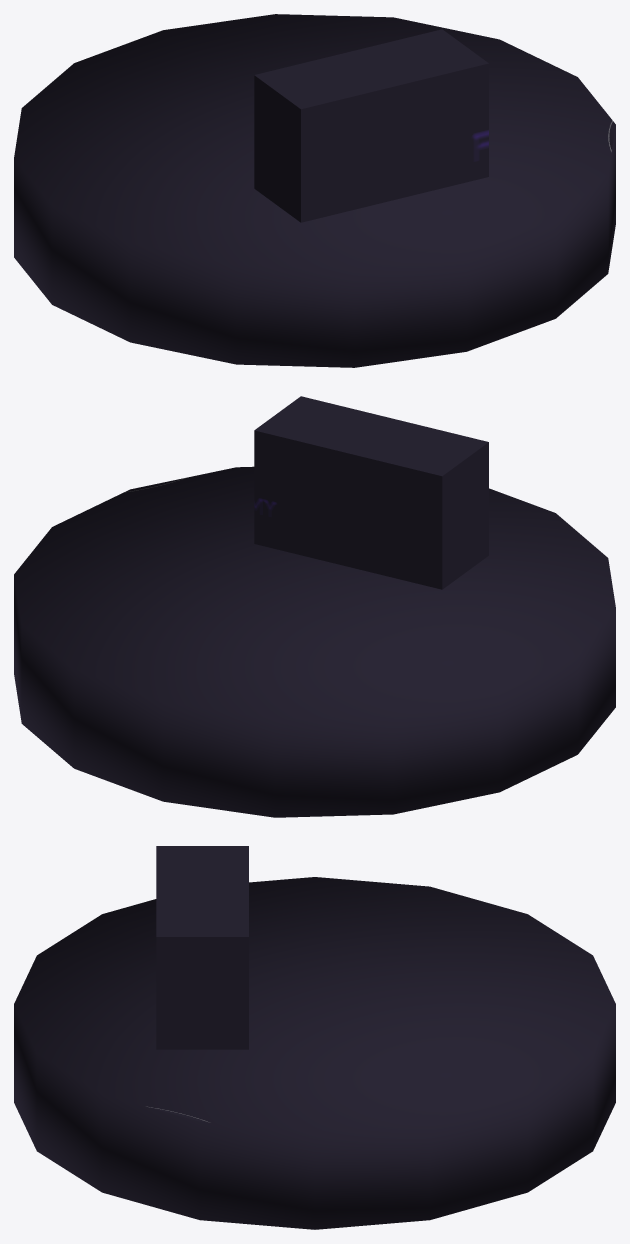
The model's file is roomba-bot-melee.fbx.
3 views of the same model, one above another, from view 1: azimuth 30°, elevation 25°; view 2: azimuth 150°, elevation 25°; view 3: azimuth 270°, elevation 25° (orthographic).
Parts seen in each view (by area): view 1: roomba-base, roomba-altSens; view 2: roomba-base, roomba-altSens; view 3: roomba-base, roomba-altSens.
Part boxes in pixels (bbox=[...]): roomba-base: bbox=[14, 14, 615, 367]; roomba-altSens: bbox=[254, 29, 488, 222]; roomba-base: bbox=[14, 466, 615, 817]; roomba-altSens: bbox=[254, 396, 488, 589]; roomba-base: bbox=[14, 877, 615, 1229]; roomba-altSens: bbox=[156, 846, 248, 1049].
Bounding box in the file's own units: 200 × 77.36 × 200.
